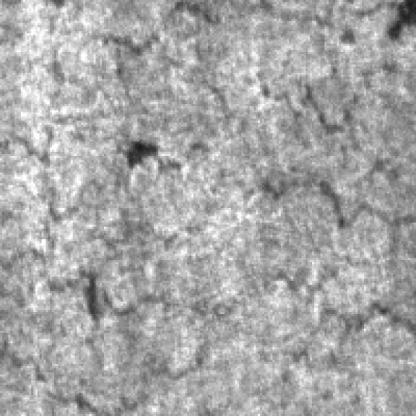crazing: (8, 272, 410, 416), (220, 156, 414, 352), (156, 42, 414, 187), (0, 135, 208, 283)
